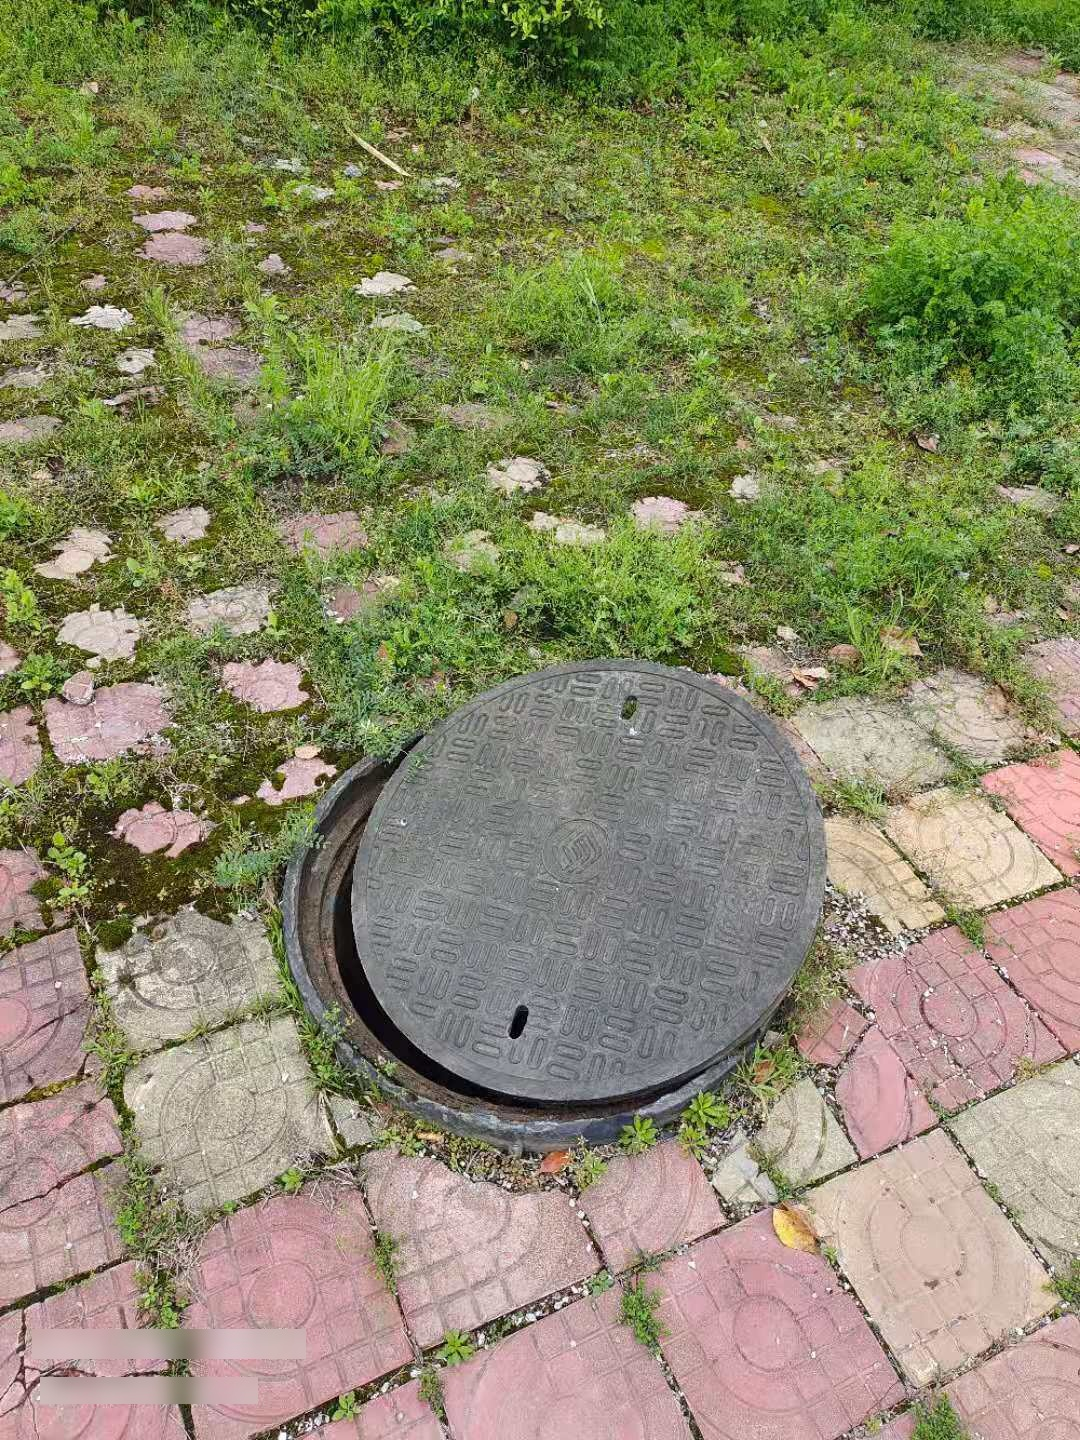uncovered: (281, 664, 829, 1147)
